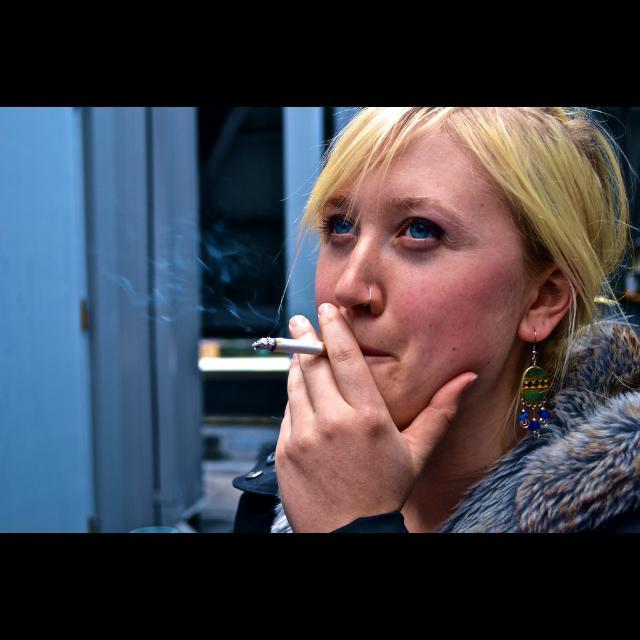rokok: (256, 328, 330, 362)
